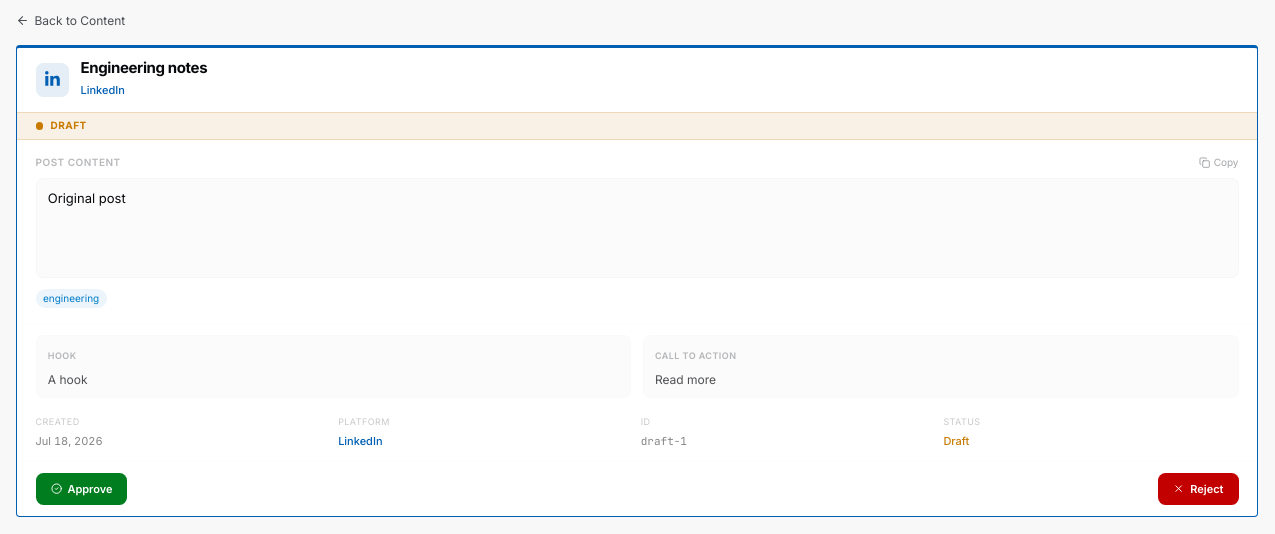
Test: DraftDetailPage › shows backend validation errors without losing the draft
Click the button "Approve".
click(82, 489)  # box left=36, top=473, right=128, bottom=505
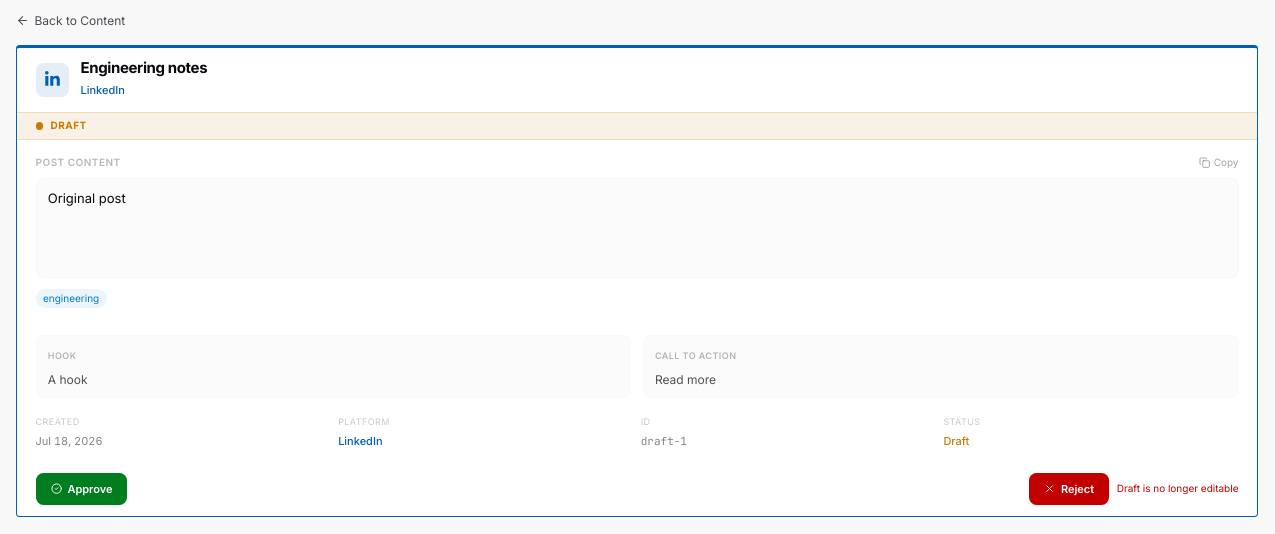
Check: the text box named "post content" holds "Original post", box left=36, top=178, right=1238, bottom=278
Check: the text "Draft is no longer editable" is shown, box left=1117, top=481, right=1238, bottom=496
